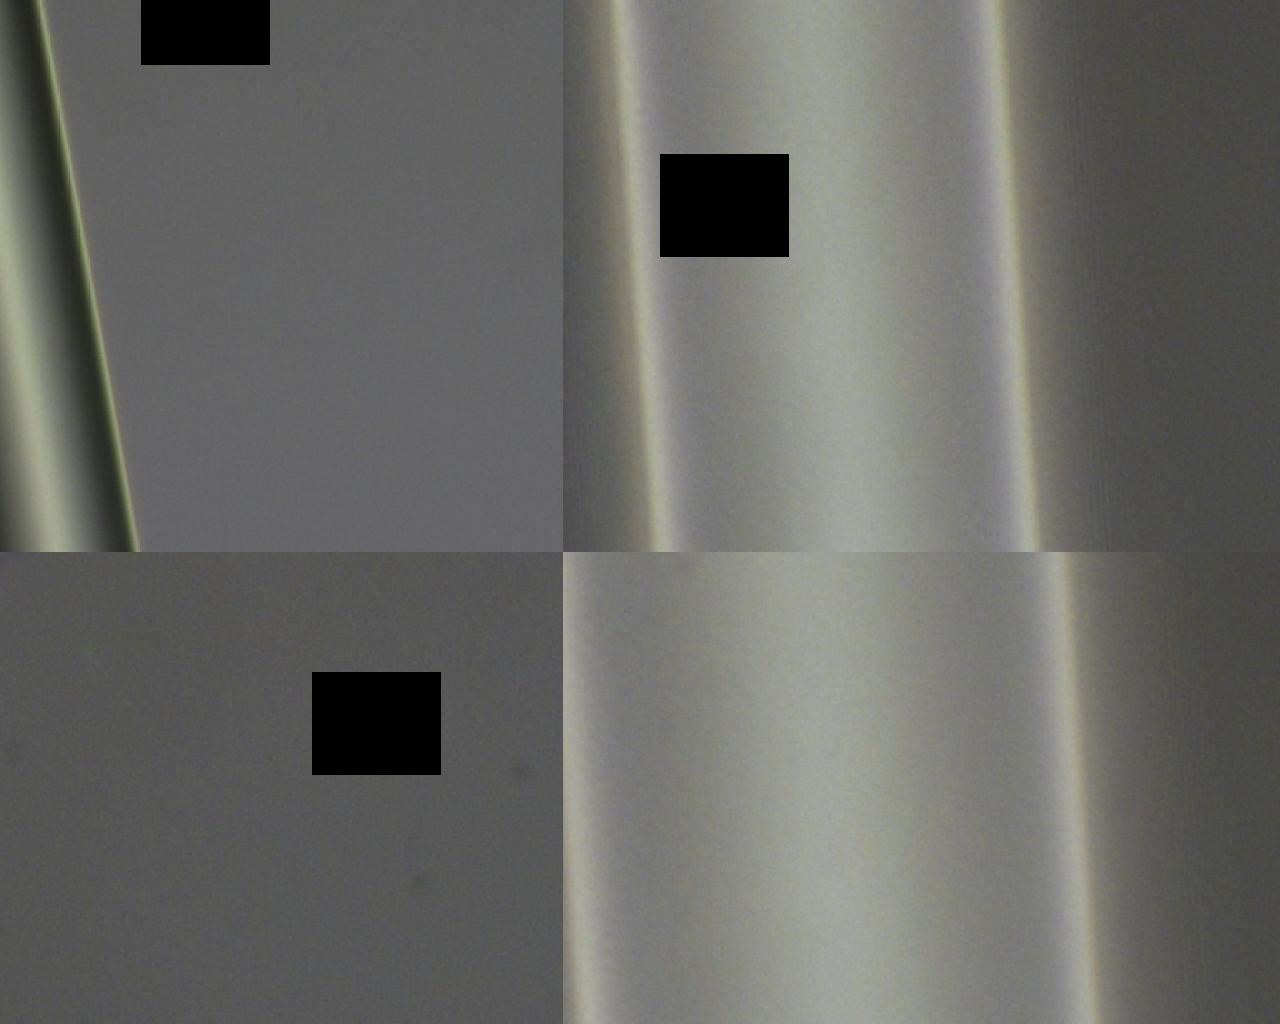fiber: (537, 0, 788, 542), (933, 542, 1176, 1024), (486, 542, 503, 1024)
